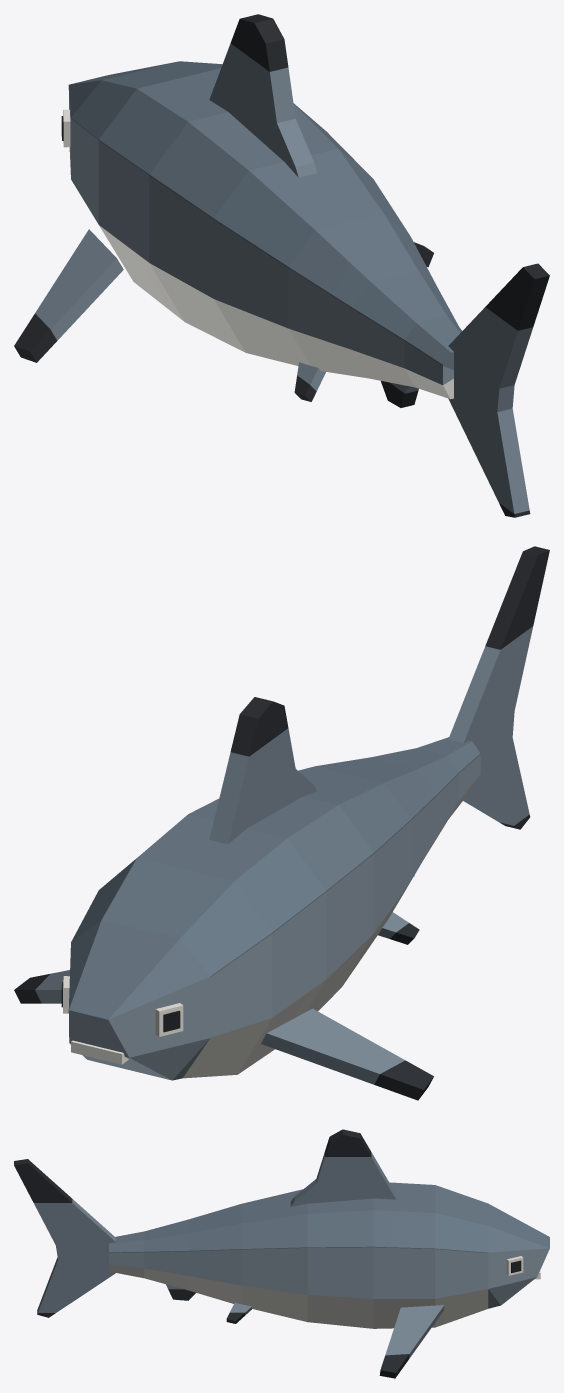
The model's file is ReefShark.obj.
3 renders of one model, top to bottom at view 1: azimuth 30°, elevation 25°; view 2: azimuth 150°, elevation 25°; view 3: azimuth 270°, elevation 25°, orthographic. The views are drawn at different scales.
Visible parts, largest first — view 1: ReefShark; view 2: ReefShark; view 3: ReefShark.
Part boxes in pixels (x1,y1,x2,y2): ReefShark: (14,14,549,517); ReefShark: (14,546,549,1100); ReefShark: (14,1129,549,1378).
Size of the model in its own units: 12.05 by 9 by 23.1.
Materials: 1 (1 with a texture image).
